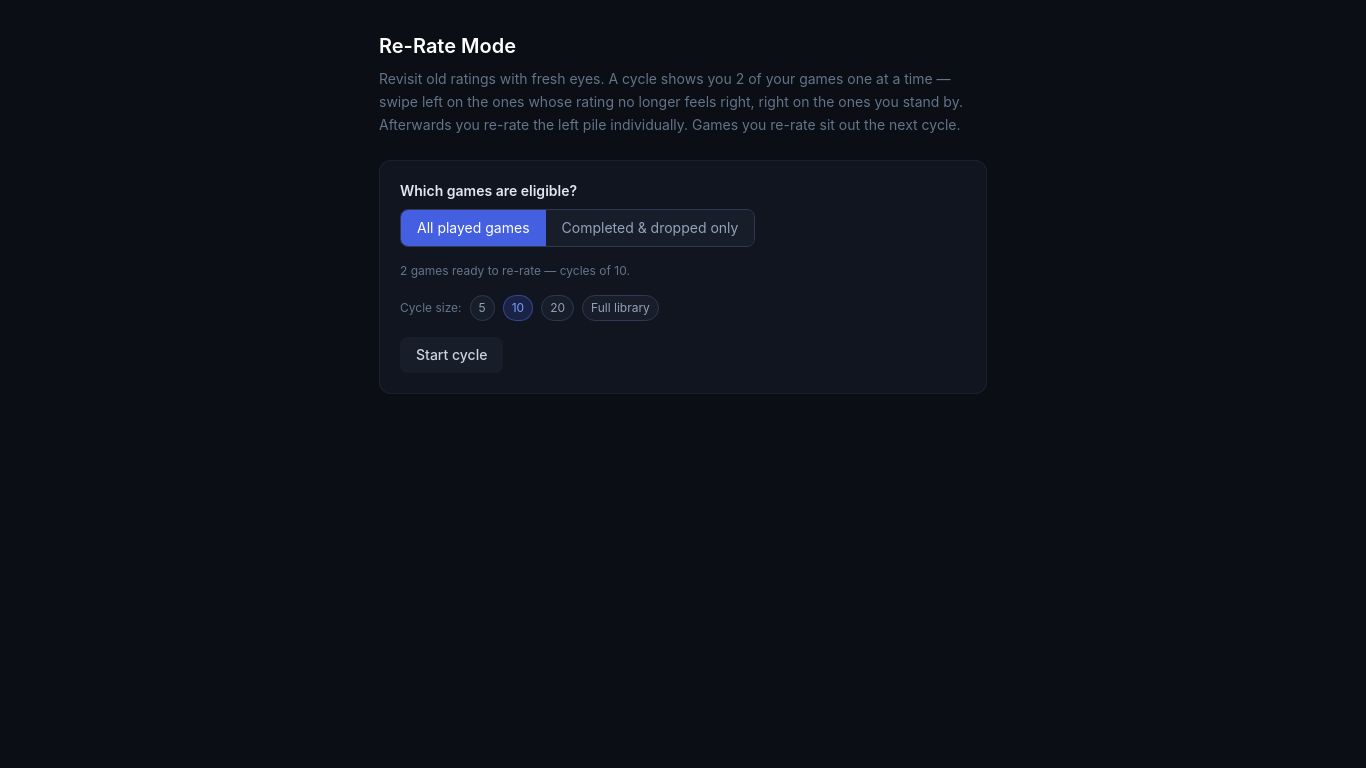
Scenario: RerateMode — idle screen › starts a cycle and enters the swipe phase
Expected: the text "2 games ready to re-rate — cycles of 10." is shown, [400, 263, 630, 278]
Click the button "Start cycle" at (452, 355), box [400, 337, 503, 373]
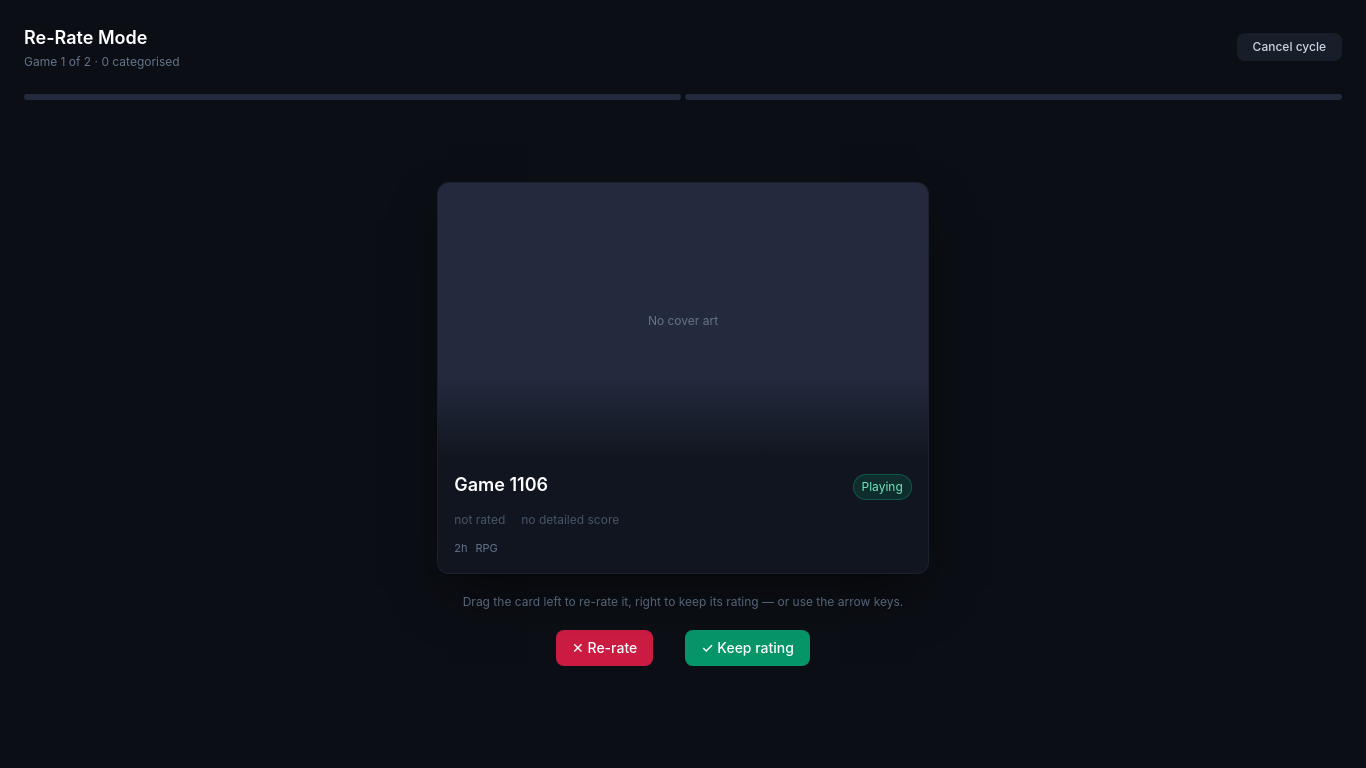
Result: the text "Game 1 of 2 · 0 categorised" is shown at [24, 54, 180, 70]
